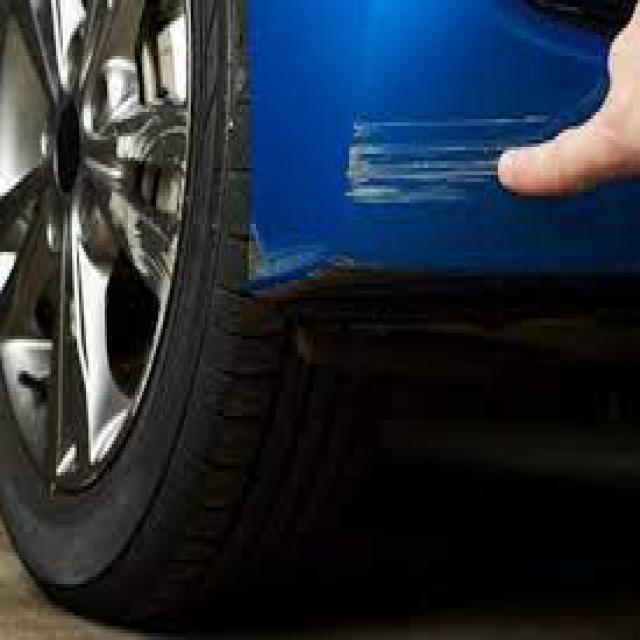car damage: (165, 0, 638, 339)
